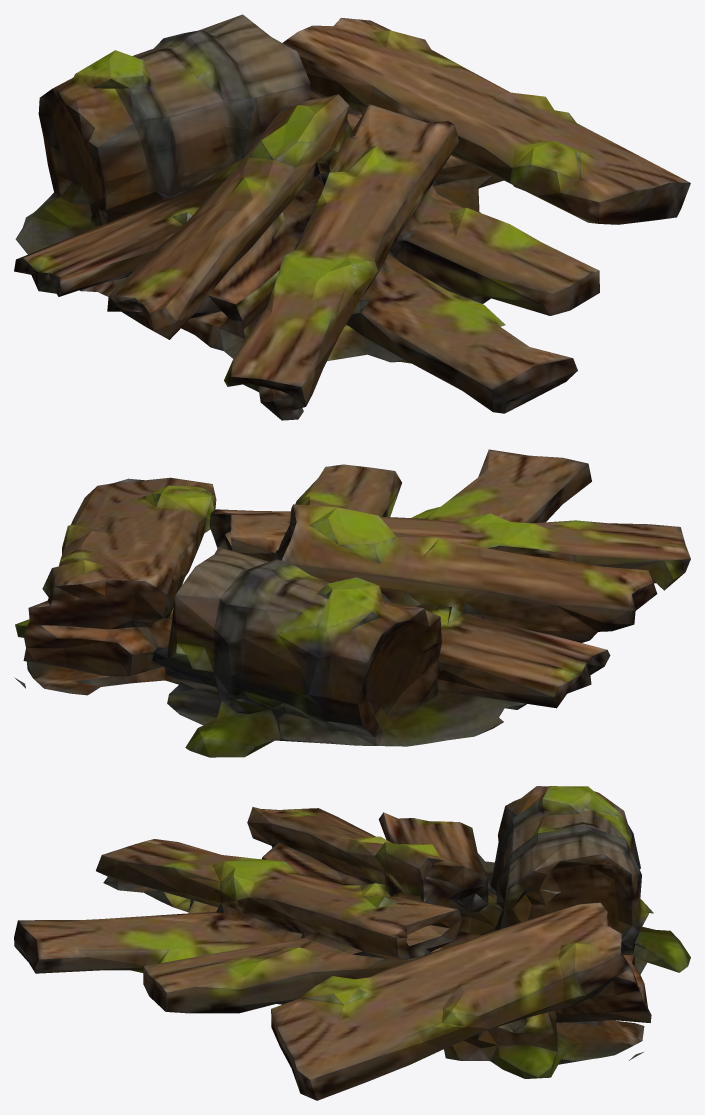
File: rotten_planks.glb
The picture shows the model from 3 angles, top to bottom: view 1: azimuth 30°, elevation 25°; view 2: azimuth 150°, elevation 25°; view 3: azimuth 270°, elevation 25°; orthographic projection. The views are drawn at different scales.
Visible parts, largest first — view 1: tripo_node_f23e851c-5927-4f38-8632-dc3bca6cdcae.001; view 2: tripo_node_f23e851c-5927-4f38-8632-dc3bca6cdcae.001; view 3: tripo_node_f23e851c-5927-4f38-8632-dc3bca6cdcae.001.
Part boxes in pixels (<box>): tripo_node_f23e851c-5927-4f38-8632-dc3bca6cdcae.001: <box>14,14,690,420</box>; tripo_node_f23e851c-5927-4f38-8632-dc3bca6cdcae.001: <box>14,449,690,757</box>; tripo_node_f23e851c-5927-4f38-8632-dc3bca6cdcae.001: <box>14,786,690,1100</box>.
Size of the model in its own units: 0.885 by 0.2195 by 0.9911.
Materials: 1 (1 with a texture image).
